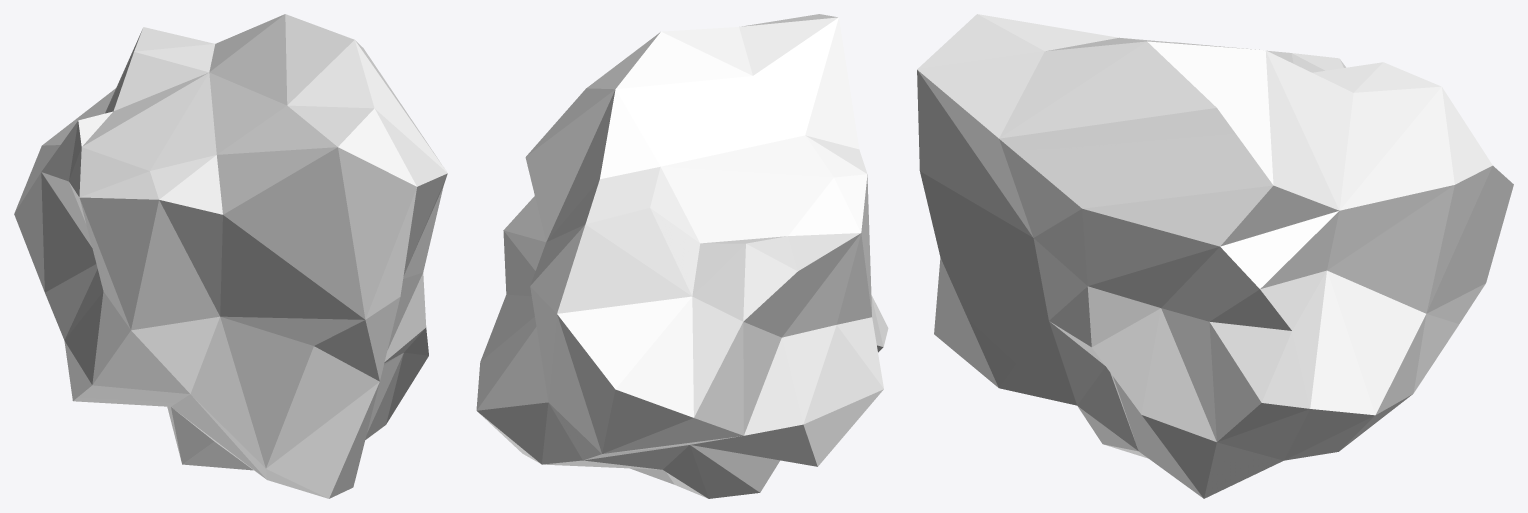
File: rock3.obj
3 renders of one model, left to right at view 1: azimuth 30°, elevation 25°; view 2: azimuth 150°, elevation 25°; view 3: azimuth 270°, elevation 25°, orthographic. The views are drawn at different scales.
Parts seen in each view (by area): view 1: ICO球.001; view 2: ICO球.001; view 3: ICO球.001.
Boxes of the visible parts, left/top/right/bottom form: ICO球.001: left=14, top=14, right=447, bottom=498; ICO球.001: left=476, top=14, right=888, bottom=498; ICO球.001: left=917, top=14, right=1513, bottom=498.
Size of the model in its own units: 1.08 by 1.26 by 1.52.
